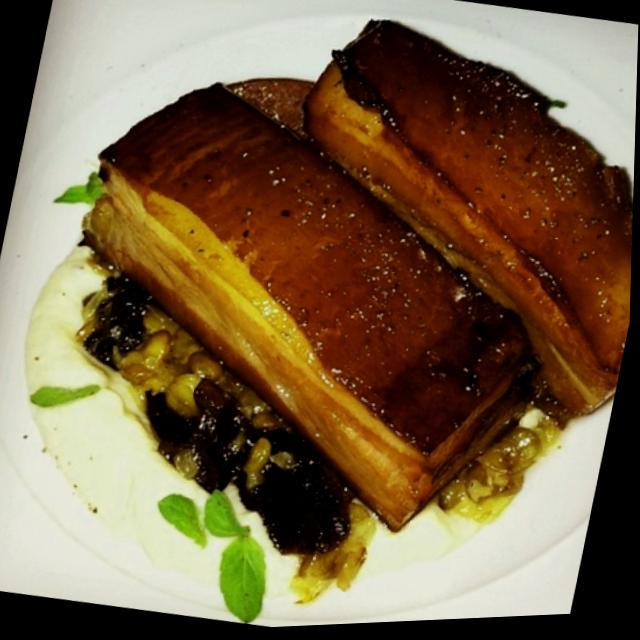牛肉菜式: (35, 0, 626, 559)
